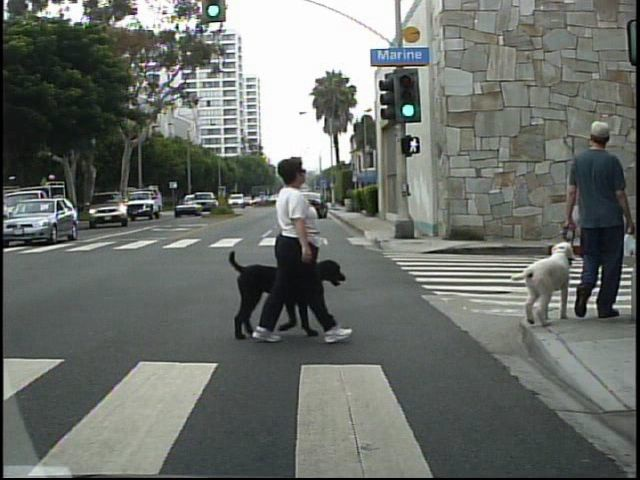person: (560, 111, 639, 336), (257, 148, 335, 352)
